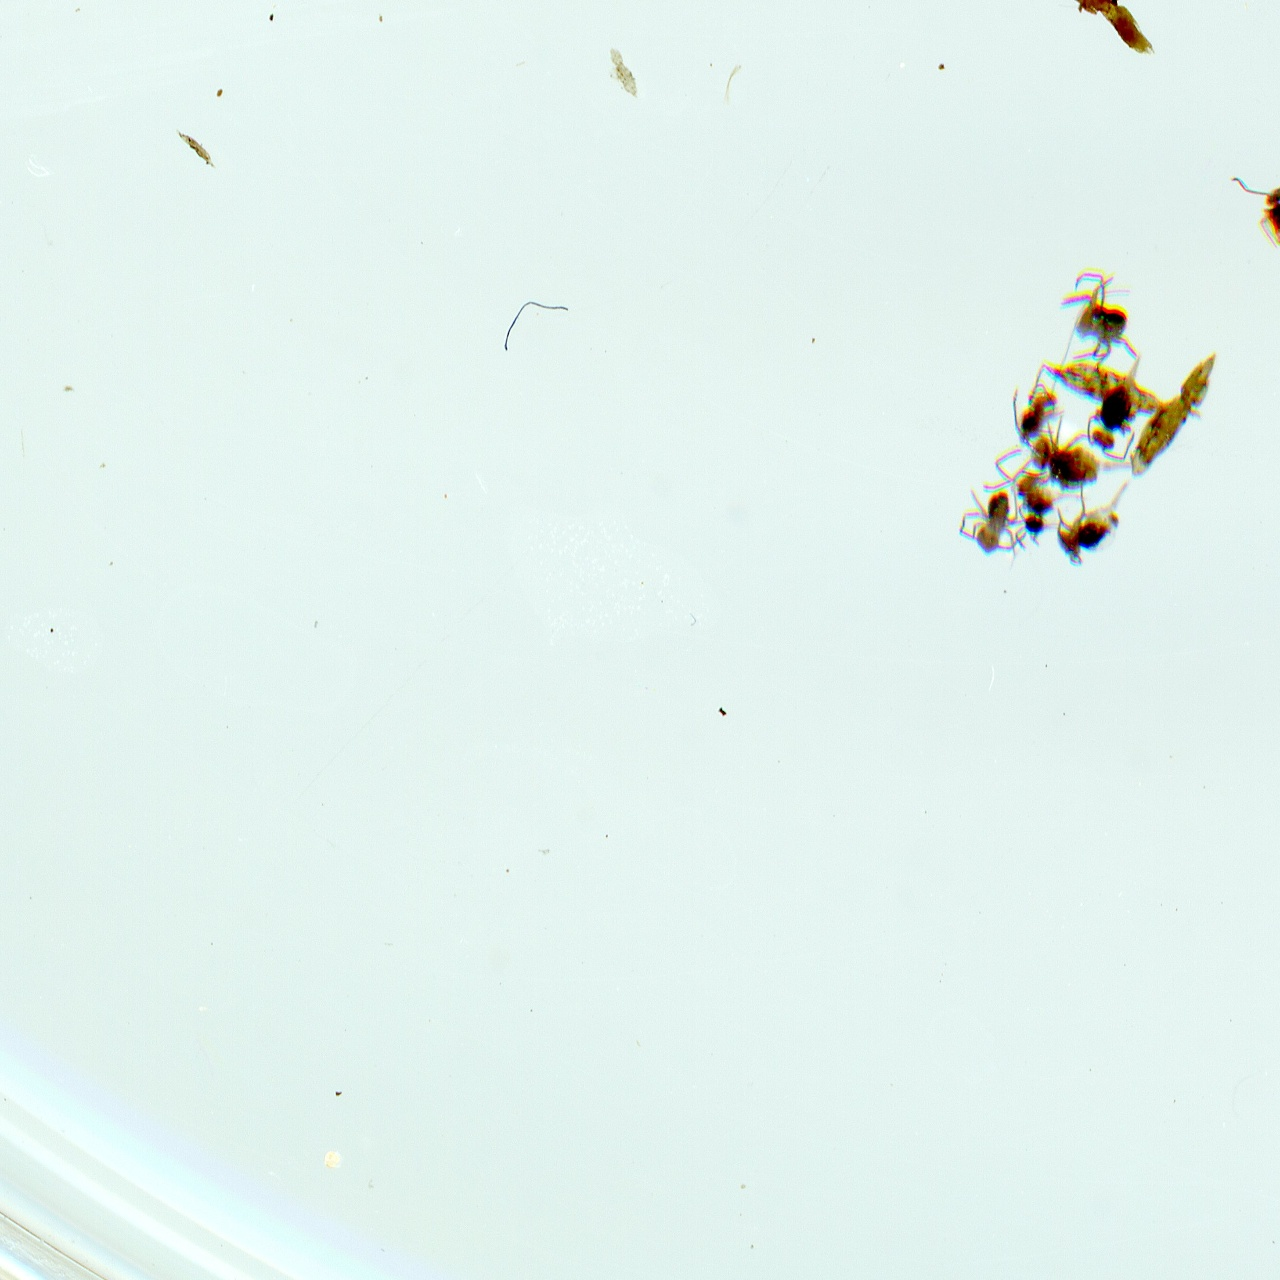arthropod: (982, 384, 1137, 492), (1034, 455, 1148, 581), (974, 434, 1088, 546), (1075, 343, 1167, 468), (1058, 266, 1141, 369), (955, 485, 1028, 573), (1230, 176, 1280, 273), (1015, 362, 1067, 449)
